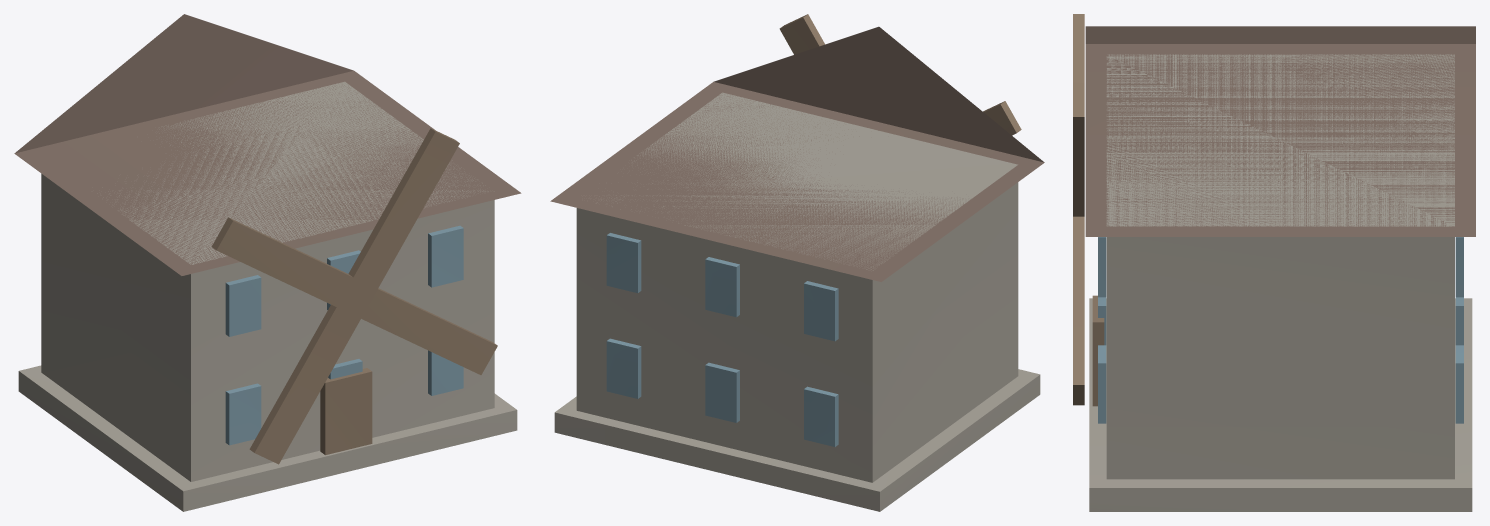
Rendered from windmill-05.glb.
3 views of the same model, side by side, from view 1: azimuth 30°, elevation 25°; view 2: azimuth 150°, elevation 25°; view 3: azimuth 270°, elevation 25° (orthographic). The views are drawn at different scales.
Parts seen in each view (by area): view 1: world; view 2: world; view 3: world.
Part boxes in pixels (x1=…): world: x1=14, y1=14, x2=521, y2=511; world: x1=550, y1=14, x2=1044, y2=511; world: x1=1073, y1=14, x2=1475, y2=511.
Bounding box in the file's own units: 1.38 × 1.3 × 1.21.
